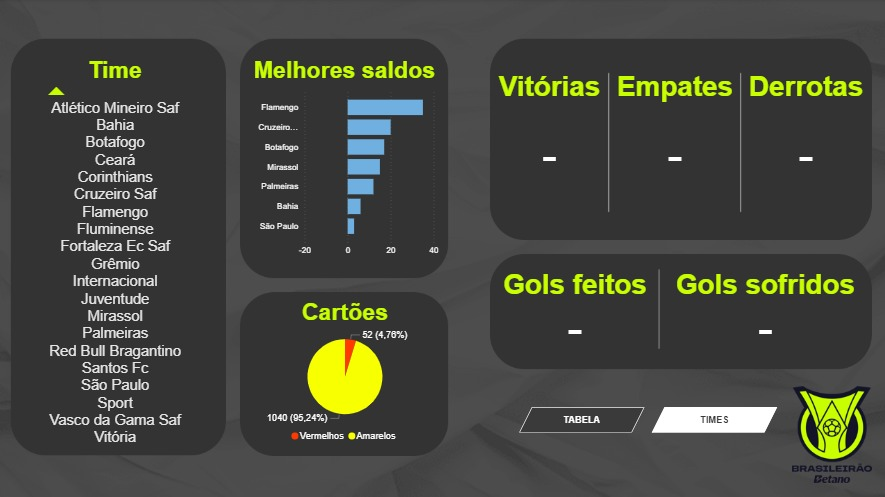

The dashboard page shown, as its layout file describes it:
{"tool":"powerbi","page":{"name":"TIMES","canvas":[1280,720],"ordinal":1},"visuals":[{"type":"tableEx","fields":{"Values":["tabela.Time","select","select1"]},"box":[66.2,83.5,213.1,564.5],"z":0},{"type":"pieChart","title":"Cartões","fields":{"Y":["Sum(tabela.CV)","Sum(tabela.CA)"]},"box":[348.5,432,302.4,216],"z":1000},{"type":"clusteredBarChart","title":"Melhores saldos","fields":{"Category":["tabela.Time"],"Y":["Sum(tabela.SG)"]},"box":[358.6,83.5,280.8,293.8],"z":2000},{"type":"card","title":"Gols feitos","fields":{"Values":["select","select1","select2","tabela.GOLS FEITOS"]},"box":[708.5,388.8,244.8,118.1],"z":4000},{"type":"card","title":"Gols sofridos","fields":{"Values":["select","select1","select2","tabela.GOLS SOFRIDOS"]},"box":[953.3,388.8,303.8,118.1],"z":5000},{"type":"card","title":"Vitórias","fields":{"Values":["select","select1","select2","tabela.VITORIAS"]},"box":[708.5,103.7,171.4,204.5],"z":6000},{"type":"card","title":"Empates","fields":{"Values":["select","select1","select2","tabela.EMPATES"]},"box":[879.8,103.7,190.1,204.5],"z":7000},{"type":"card","title":"Derrotas","fields":{"Values":["select","select1","select2","tabela.DERROTAS"]},"box":[1069.9,103.7,187.2,204.5],"z":8000},{"type":"pageNavigator","box":[750.2,587.5,373,37.4],"z":9000}]}

Visuals, with their boxes in screenshot pixels (x1, y1, x2, y2), scaled from the page's 1280x720 canvas onto the 885x497 screenshot:
tableEx - tabela.Time x select: 46,58,193,447
"Cartões" pieChart: 241,298,450,447
"Melhores saldos" clusteredBarChart: 248,58,442,260
"Gols feitos" card: 490,268,659,350
"Gols sofridos" card: 659,268,869,350
"Vitórias" card: 490,72,608,213
"Empates" card: 608,72,740,213
"Derrotas" card: 740,72,869,213
pageNavigator: 519,406,777,431
